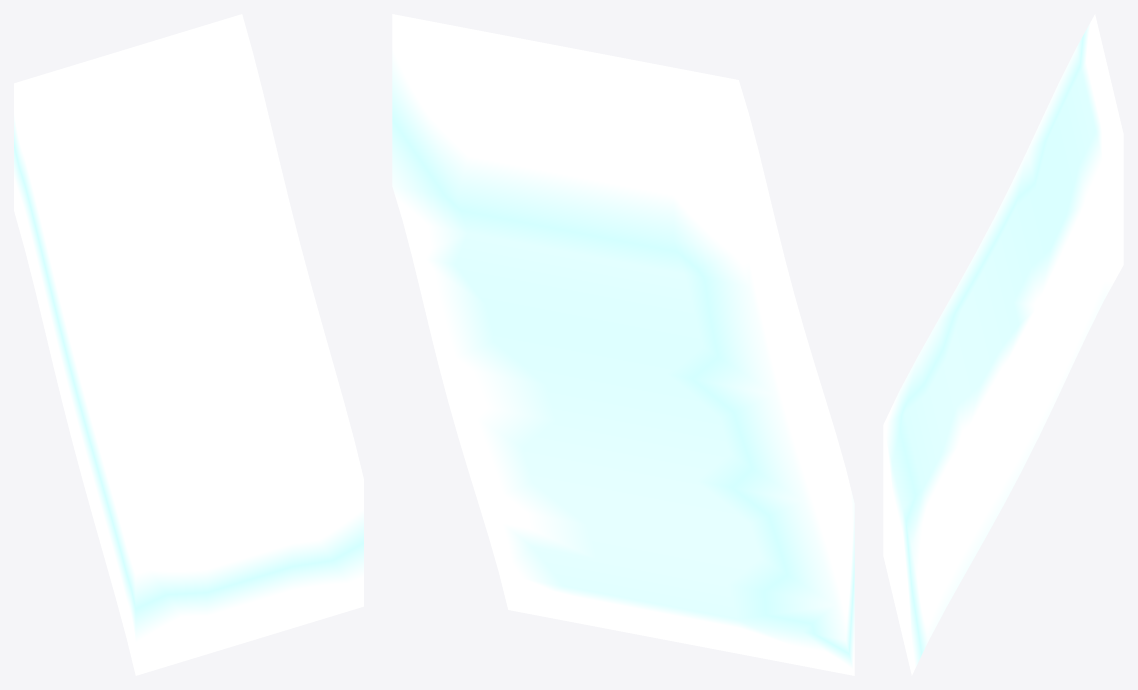
Rendered from fragment-pages.glb.
3 views of the same model, side by side, from view 1: azimuth 30°, elevation 25°; view 2: azimuth 150°, elevation 25°; view 3: azimuth 270°, elevation 25° (orthographic). The views are drawn at different scales.
Parts seen in each view (by area): view 1: default; view 2: default; view 3: default.
Boxes of the visible parts, x1,y1,x2,y2 form: default: (14, 14, 363, 675); default: (392, 14, 854, 675); default: (883, 14, 1123, 675).
Size of the model in its own units: 0.0941 by 0.18 by 0.0737.
